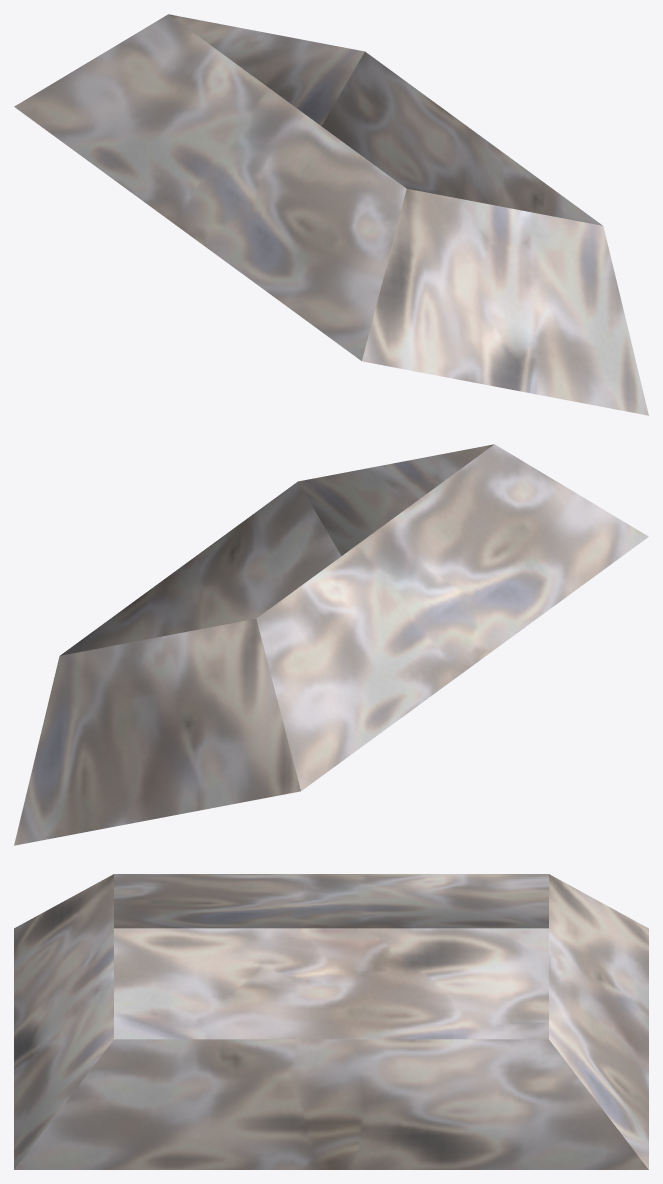
File: pipe_Io_water.glb
The picture shows the model from 3 angles, top to bottom: view 1: azimuth 30°, elevation 25°; view 2: azimuth 150°, elevation 25°; view 3: azimuth 270°, elevation 25°; orthographic projection. The views are drawn at different scales.
Visible parts, largest first — view 1: zhuti.II.017; view 2: zhuti.II.017; view 3: zhuti.II.017.
Boxes of the visible parts, left/top/right/bottom form: zhuti.II.017: left=14, top=14, right=648, bottom=415; zhuti.II.017: left=14, top=444, right=648, bottom=845; zhuti.II.017: left=14, top=874, right=648, bottom=1169.
Bounding box in the file's own units: 3.6 × 2.7 × 7.32.
Materials: 1 (1 with a texture image).
